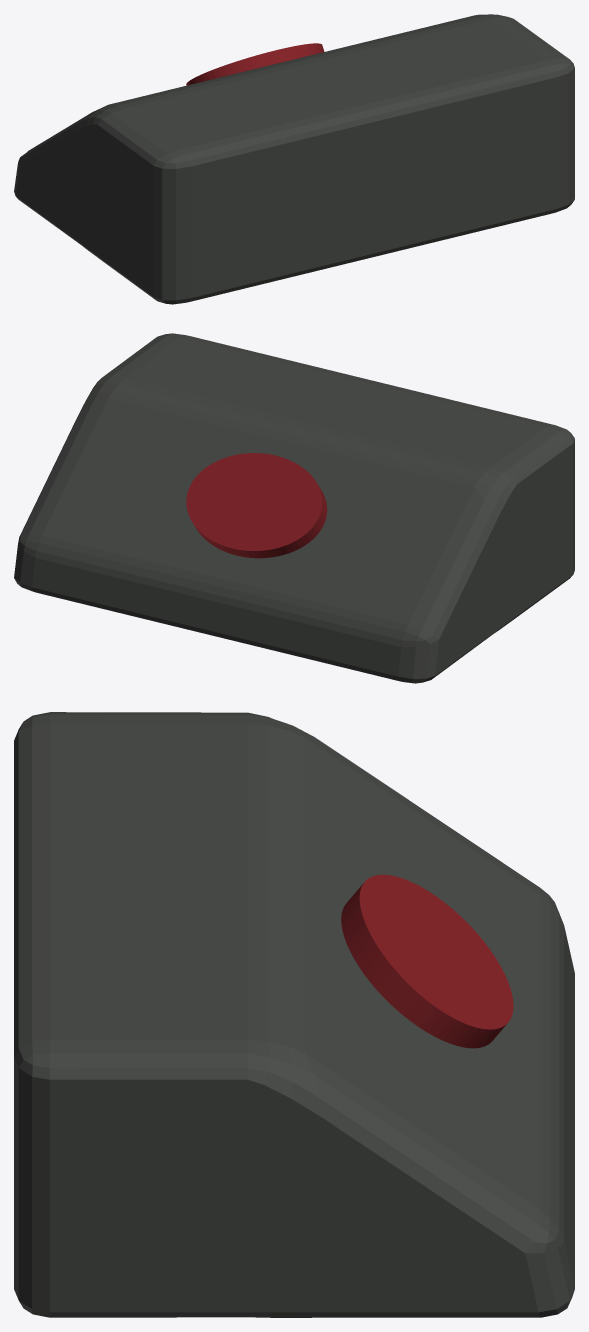
The model's file is SoundController.fbx.
3 views of the same model, one above another, from view 1: azimuth 30°, elevation 25°; view 2: azimuth 150°, elevation 25°; view 3: azimuth 270°, elevation 25° (orthographic). The views are drawn at different scales.
Parts seen in each view (by area): view 1: SoundCnt, Sound_btn_M; view 2: SoundCnt, Sound_btn_M; view 3: SoundCnt, Sound_btn_M.
Part boxes in pixels (bbox=[...]): SoundCnt: bbox=[14, 14, 574, 304]; Sound_btn_M: bbox=[186, 43, 324, 85]; SoundCnt: bbox=[14, 333, 574, 683]; Sound_btn_M: bbox=[186, 453, 327, 558]; SoundCnt: bbox=[14, 712, 574, 1317]; Sound_btn_M: bbox=[341, 874, 513, 1048].
Bounding box in the file's own units: 14.84 × 9.71 × 5.1.
